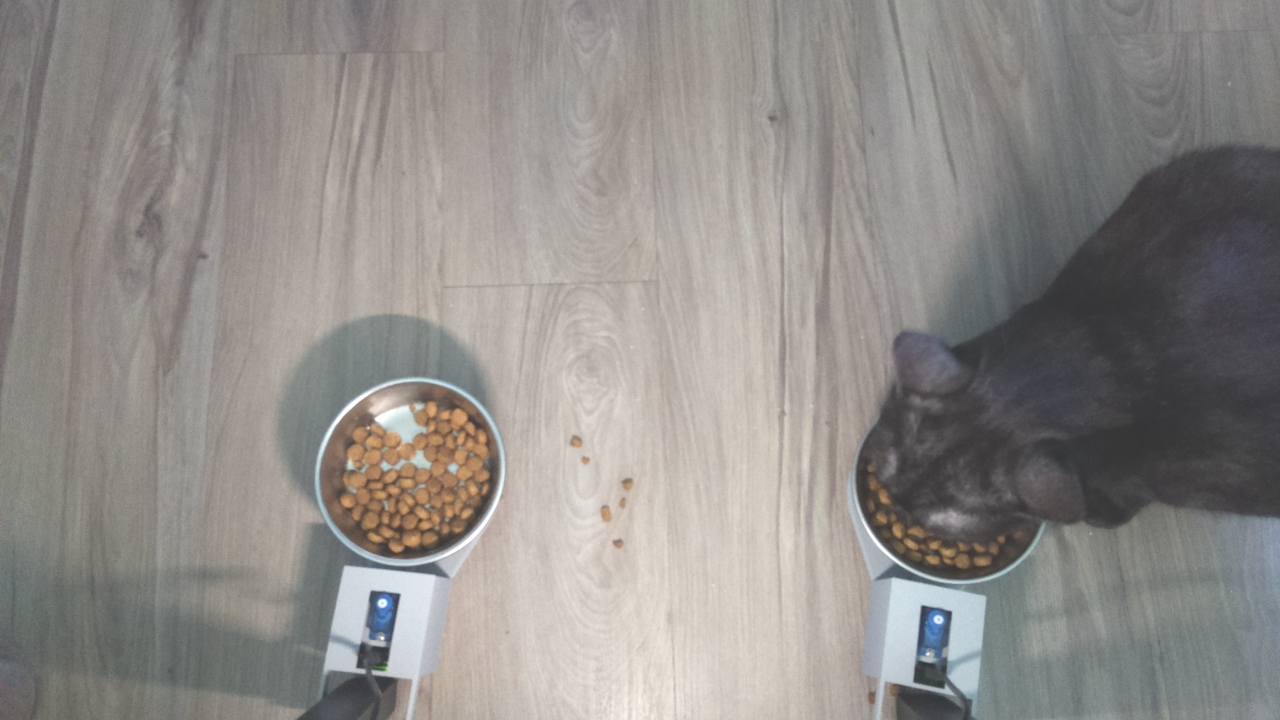open_bowl: (308, 376, 508, 571)
saki_eating: (845, 306, 1105, 591)
